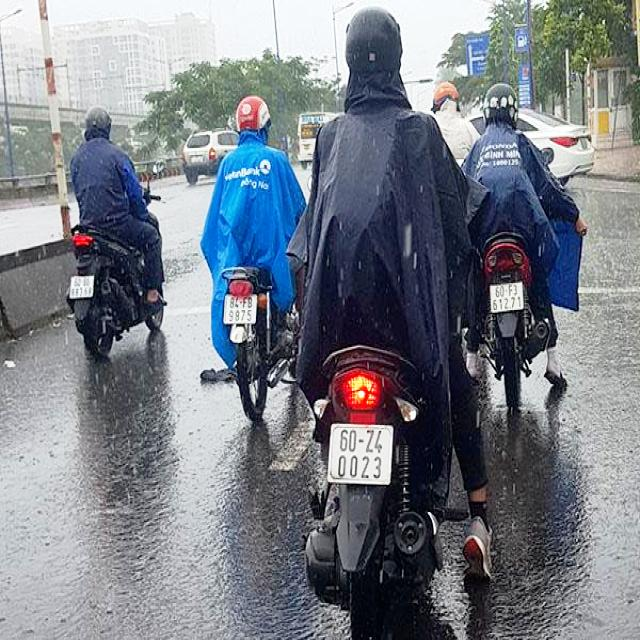license_plate: (329, 426, 391, 484), (492, 281, 524, 314), (224, 294, 257, 325)
